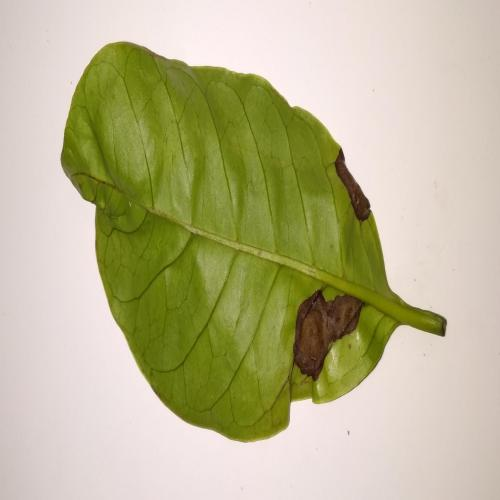leaf: (41, 31, 452, 446)
phoma: (283, 276, 369, 393), (329, 147, 375, 224)
